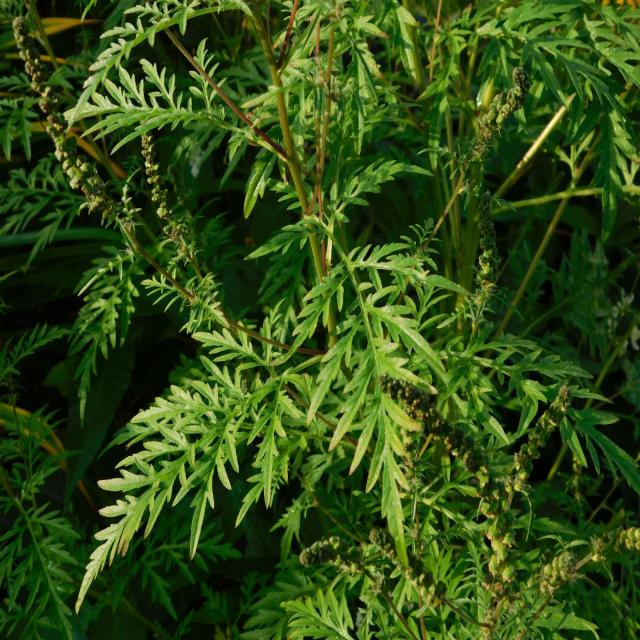ambrosia: (76, 7, 396, 147), (332, 238, 494, 486), (117, 339, 301, 527)
